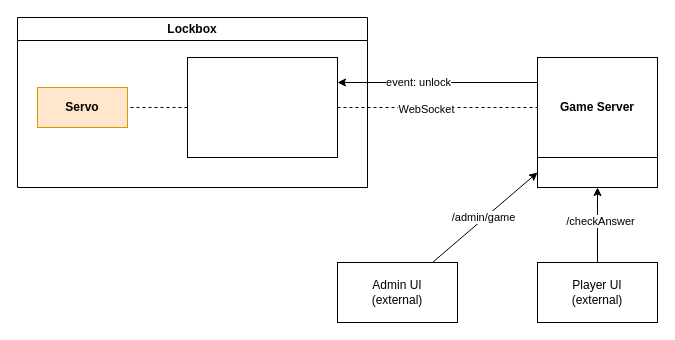
Image size: 675x340. Some labels were removed from this diagram. Here are the shapes that lost their labels. From the top down, the centre of each, then its label:
(262,107): Lockbox Controller
(597,172): REST
